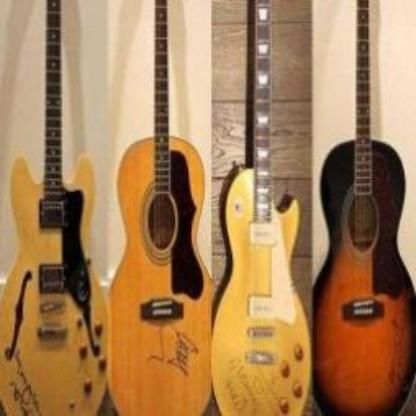acousticguitar: (108, 0, 212, 416), (313, 1, 411, 414)
guitar: (1, 0, 104, 416), (213, 2, 311, 416)
